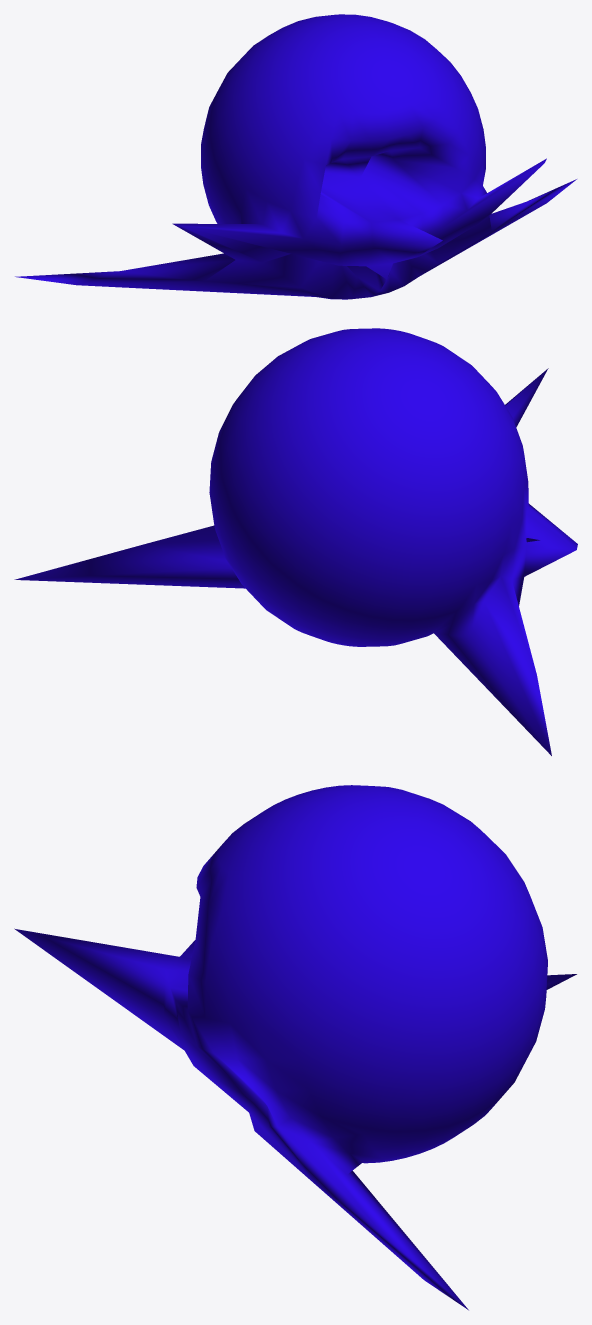
The model's file is badguy.fbx.
The picture shows the model from 3 angles, top to bottom: view 1: azimuth 30°, elevation 25°; view 2: azimuth 150°, elevation 25°; view 3: azimuth 270°, elevation 25°; orthographic projection. The views are drawn at different scales.
Visible parts, largest first — view 1: Sphere; view 2: Sphere; view 3: Sphere.
Part boxes in pixels (left/top/right/bottom): Sphere: left=15, top=14, right=576, bottom=299; Sphere: left=14, top=328, right=577, bottom=755; Sphere: left=14, top=785, right=576, bottom=1310.
Bounding box in the file's own units: 422 × 200 × 297.
